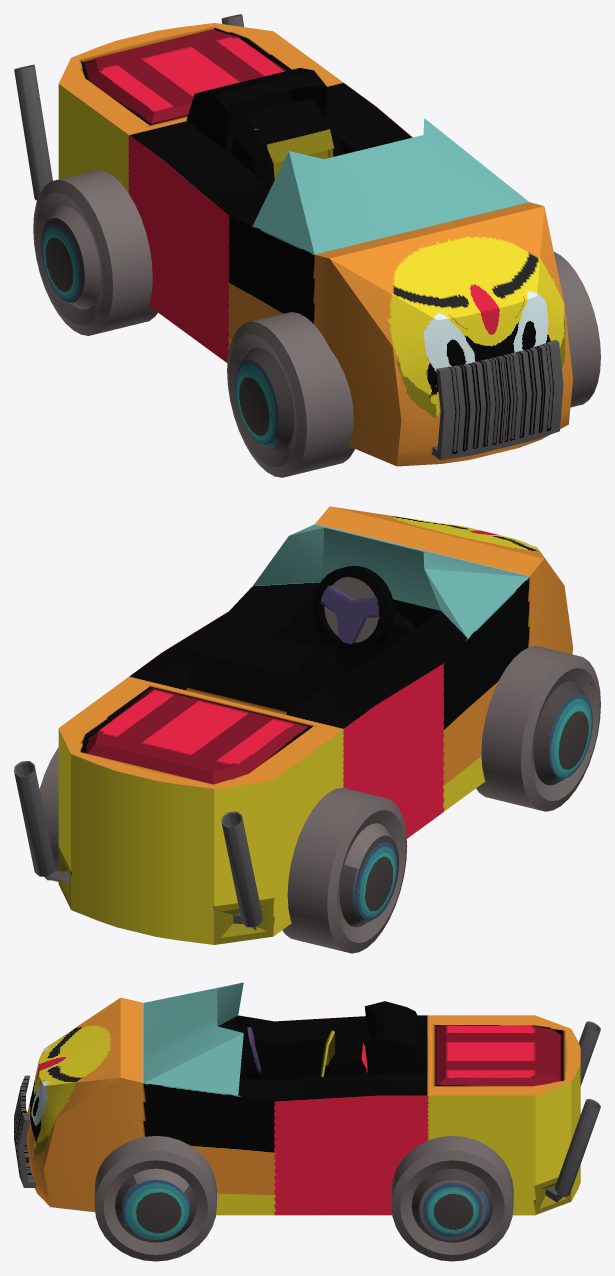
Rendered from robustKartMegaKart_V2(22-03-28)0.fbx.
3 renders of one model, top to bottom at view 1: azimuth 30°, elevation 25°; view 2: azimuth 150°, elevation 25°; view 3: azimuth 270°, elevation 25°, orthographic. The views are drawn at different scales.
Visible parts, largest first — view 1: Cube.001, tireFront2, tireBack2, seat, tireFront1; view 2: Cube.001, tireFront2, tireBack2, wheel, tireBack1, chasse, seat; view 3: Cube.001, tireFront1, tireBack1, seat, wheel.
Part boxes in pixels (left/top/right/bottom): Cube.001: left=14, top=14, right=572, bottom=466; tireFront2: left=227, top=312, right=354, bottom=477; tireBack2: left=33, top=170, right=157, bottom=335; seat: left=231, top=98, right=344, bottom=187; tireFront1: left=554, top=252, right=600, bottom=407; Cube.001: left=14, top=506, right=572, bottom=944; tireFront2: left=476, top=646, right=600, bottom=811; tireBack2: left=282, top=787, right=407, bottom=953; wheel: left=312, top=566, right=394, bottom=652; tireBack1: left=39, top=747, right=58, bottom=881; chasse: left=345, top=611, right=414, bottom=656; seat: left=245, top=630, right=343, bottom=684; Cube.001: left=14, top=982, right=600, bottom=1215; tireFront1: left=94, top=1136, right=216, bottom=1261; tireBack1: left=391, top=1136, right=513, bottom=1261; seat: left=320, top=1017, right=372, bottom=1076; wheel: left=234, top=1016, right=261, bottom=1079.
Bounding box in the file's own units: 429 × 333 × 890.
